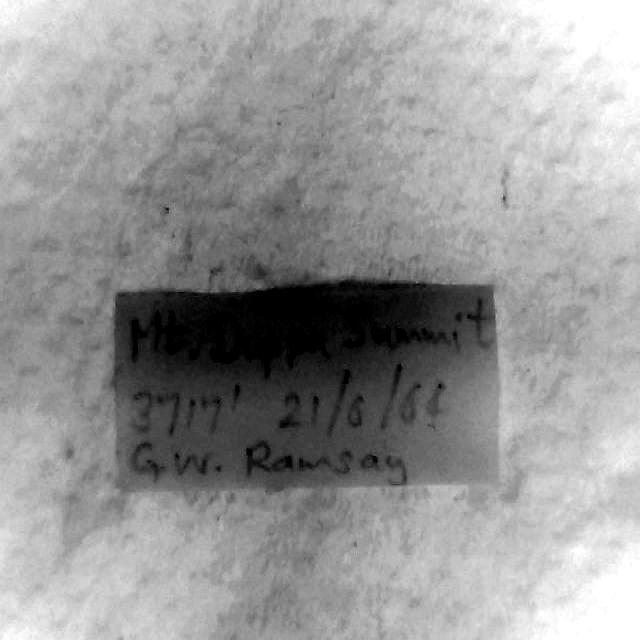hand_label: (118, 285, 498, 488)
